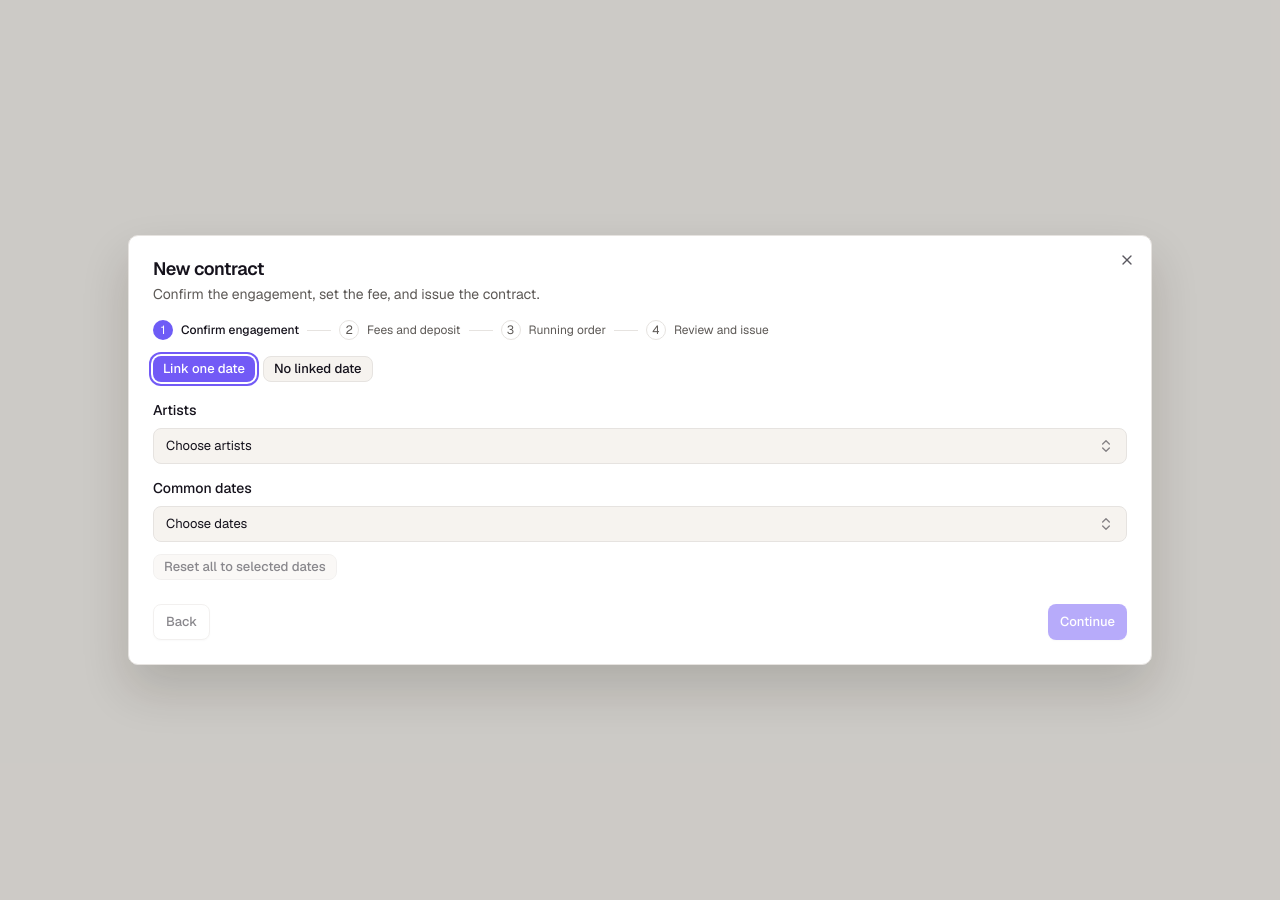
Test: NewOrderWizard › picking No linked date switches step 1 to manual date/venue/city inputs
expect the dropdown named "select artist" is shown: met, box [153,428,1127,464]
Click the button "No linked date".
click(318, 369)  # box [263,356,373,382]
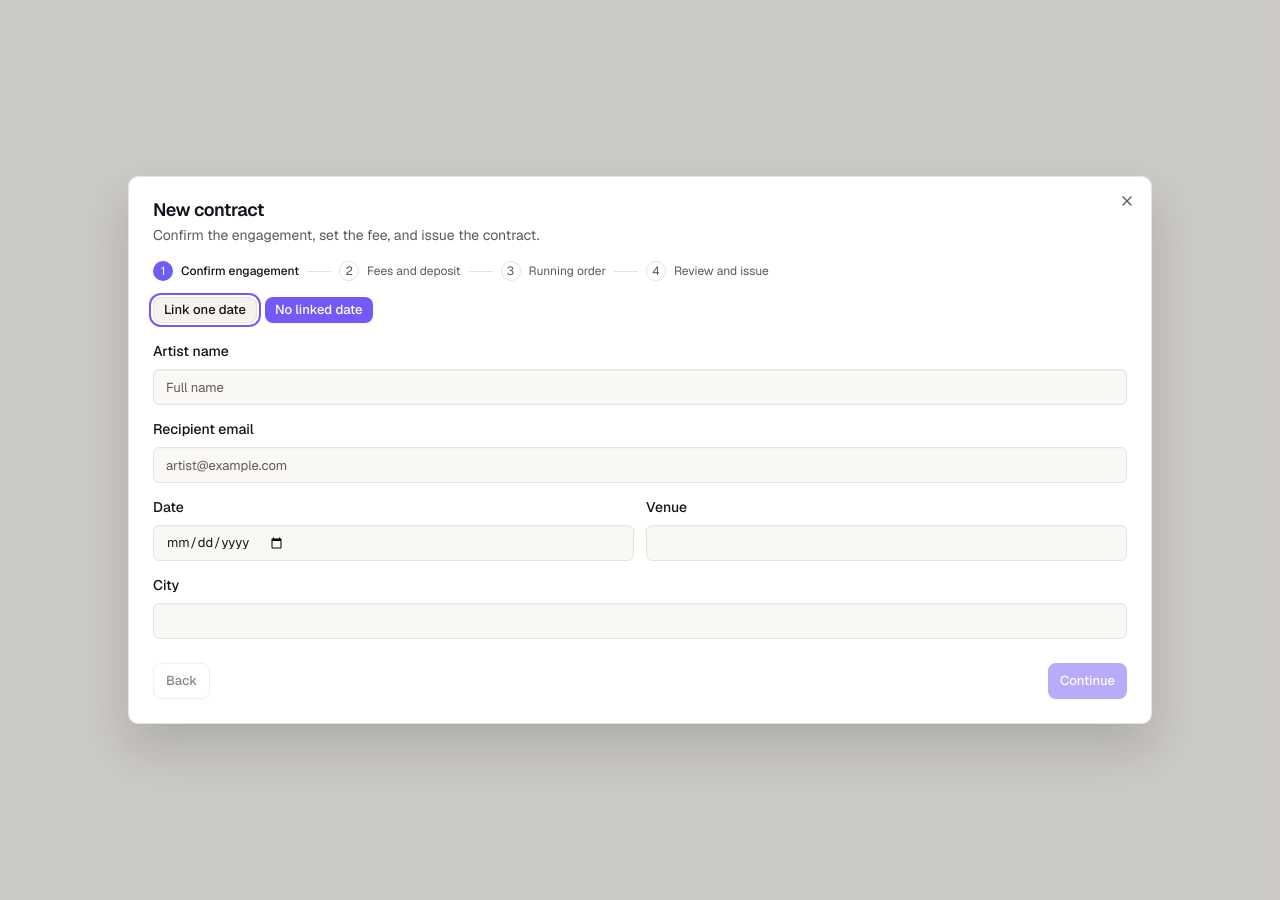
expect the field labelled "Artist name" is shown: met, box [153,369,1127,405]
expect the field labelled "Recipient email" is shown: met, box [153,447,1127,483]
expect the date field labelled "Date" is shown: met, box [153,525,634,561]
